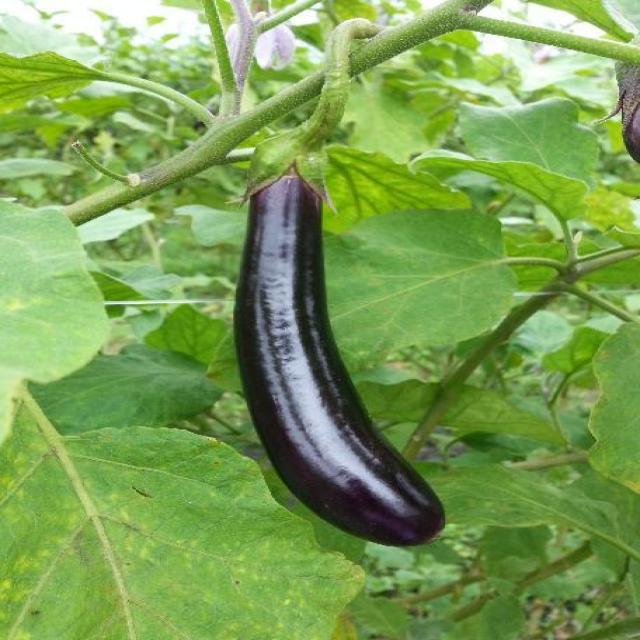eggplant: (225, 138, 460, 546)
